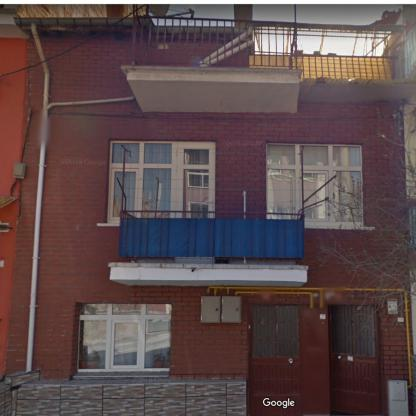door: (247, 305, 302, 415), (332, 307, 380, 414)
window: (108, 141, 216, 222), (267, 145, 361, 222), (77, 305, 170, 371)
